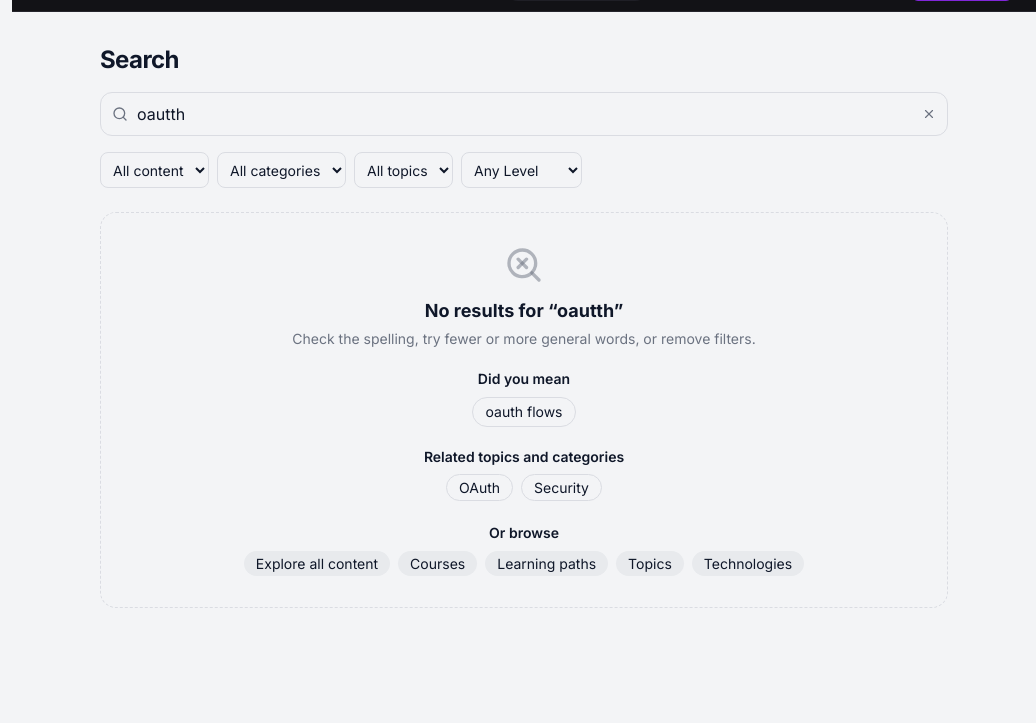
Scenario: SearchResults › shows did-you-mean suggestions and browse links on zero results
Expected: the heading "No results for “oautth”" is shown, [425,300,623,321]
Expected: the navigation bar named "Browse content" is shown, [244,524,804,576]
Click the button "oauth flows": (524, 412) [472,397,576,427]
(page scrolled)
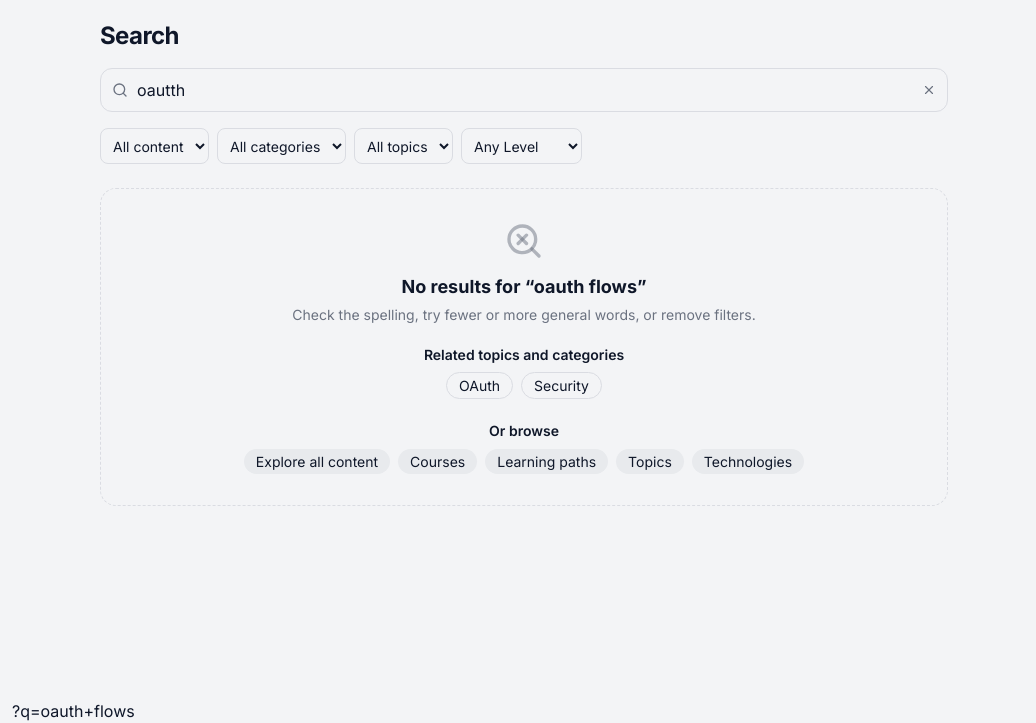
Result: the text with test id "where" reads "?q=oauth+flows" at [12,701,135,721]
